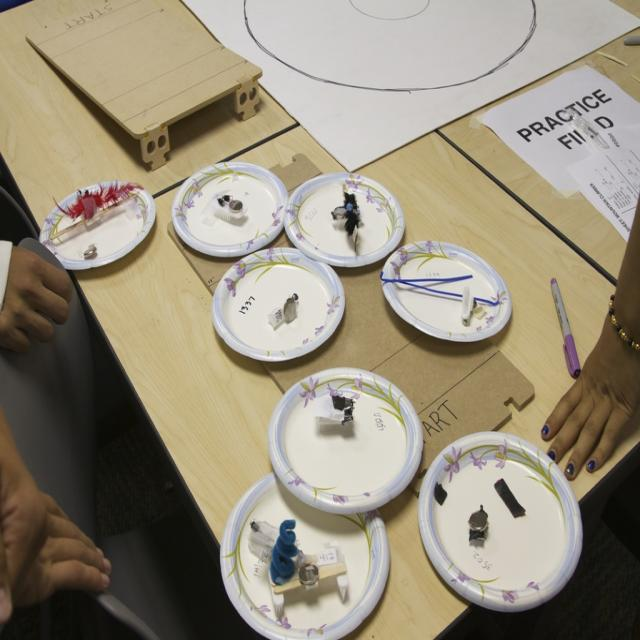non-organic waste: (208, 476, 393, 640), (419, 446, 576, 622), (257, 366, 427, 496), (204, 262, 354, 368), (374, 242, 518, 341), (284, 165, 406, 264), (169, 174, 285, 253)
